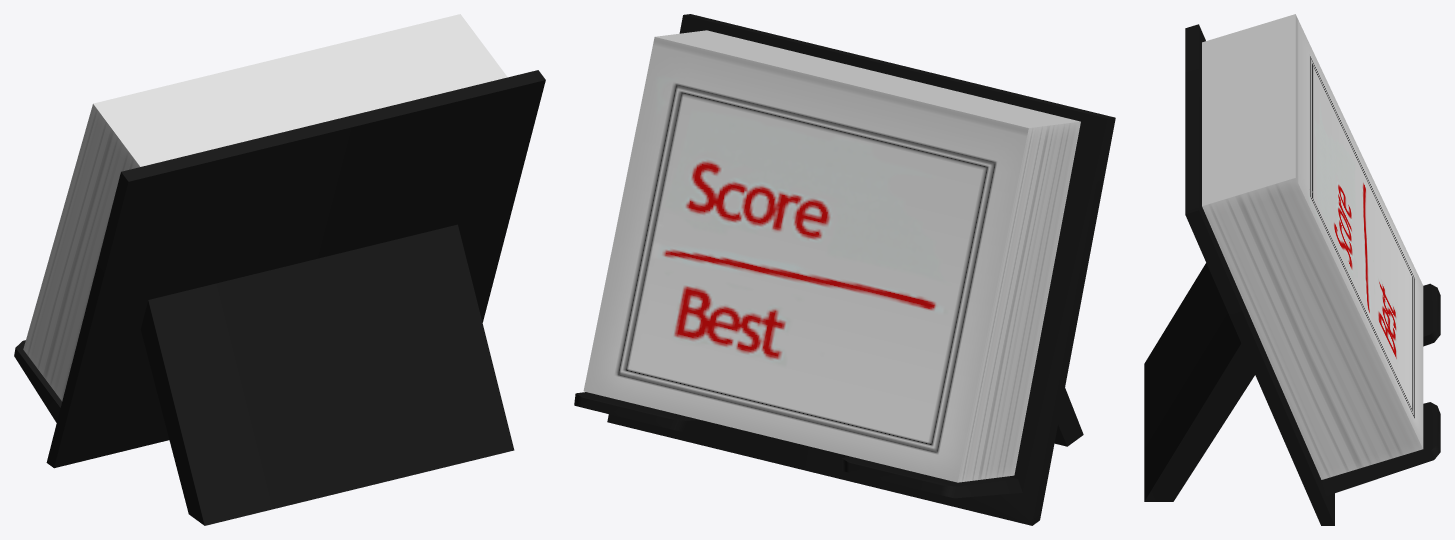
The model's file is SM_Scoreboard.fbx.
3 views of the same model, side by side, from view 1: azimuth 30°, elevation 25°; view 2: azimuth 150°, elevation 25°; view 3: azimuth 270°, elevation 25° (orthographic). The views are drawn at different scales.
Visible parts, largest first — view 1: Scoreboard; view 2: Scoreboard; view 3: Scoreboard.
Part boxes in pixels (x1,y1,x2,y2): Scoreboard: [14, 14, 545, 525]; Scoreboard: [574, 14, 1115, 525]; Scoreboard: [1144, 14, 1440, 525].
Size of the model in its own units: 22 by 18.58 by 14.81.
Materials: 2 (2 with a texture image).
